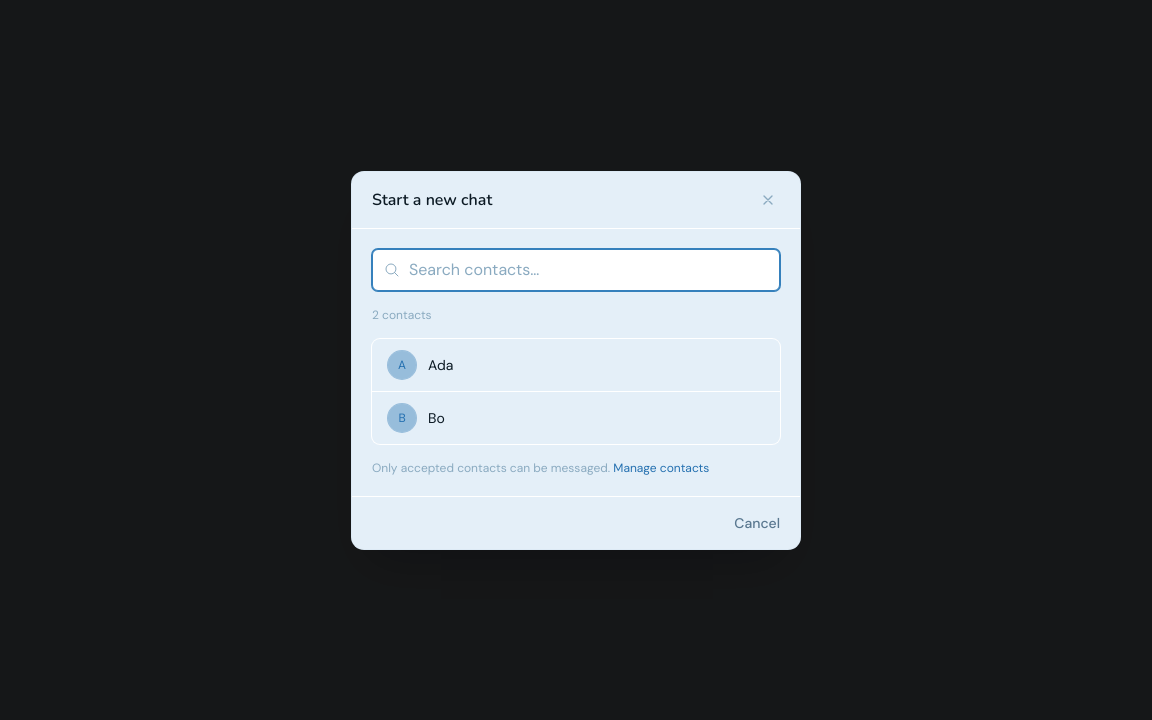
Test: NewChatModal › shows an empty-search message when nothing matches
expect the text "Ada" is shown: met, box [428,356,453,374]
Type "zzz" into the search field labelled "Search contacts…" at x=576, y=270, box [372,248,780,290]
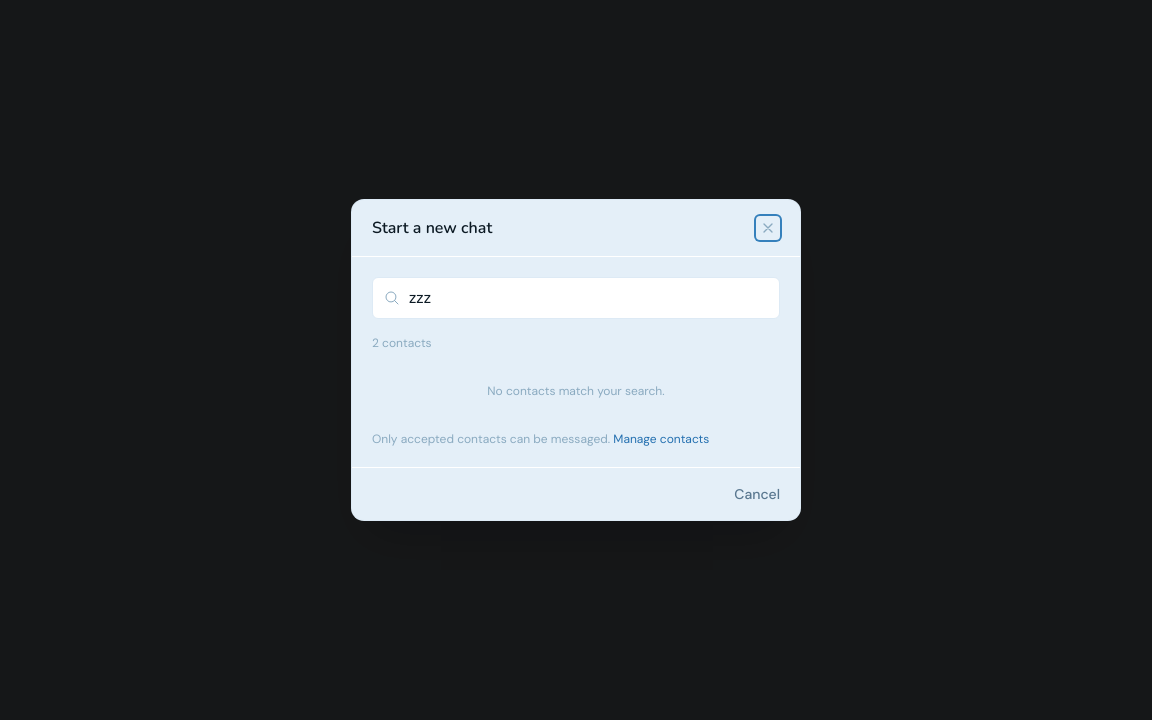
expect the text "No contacts match your search." is shown: met, box [487,383,665,399]
